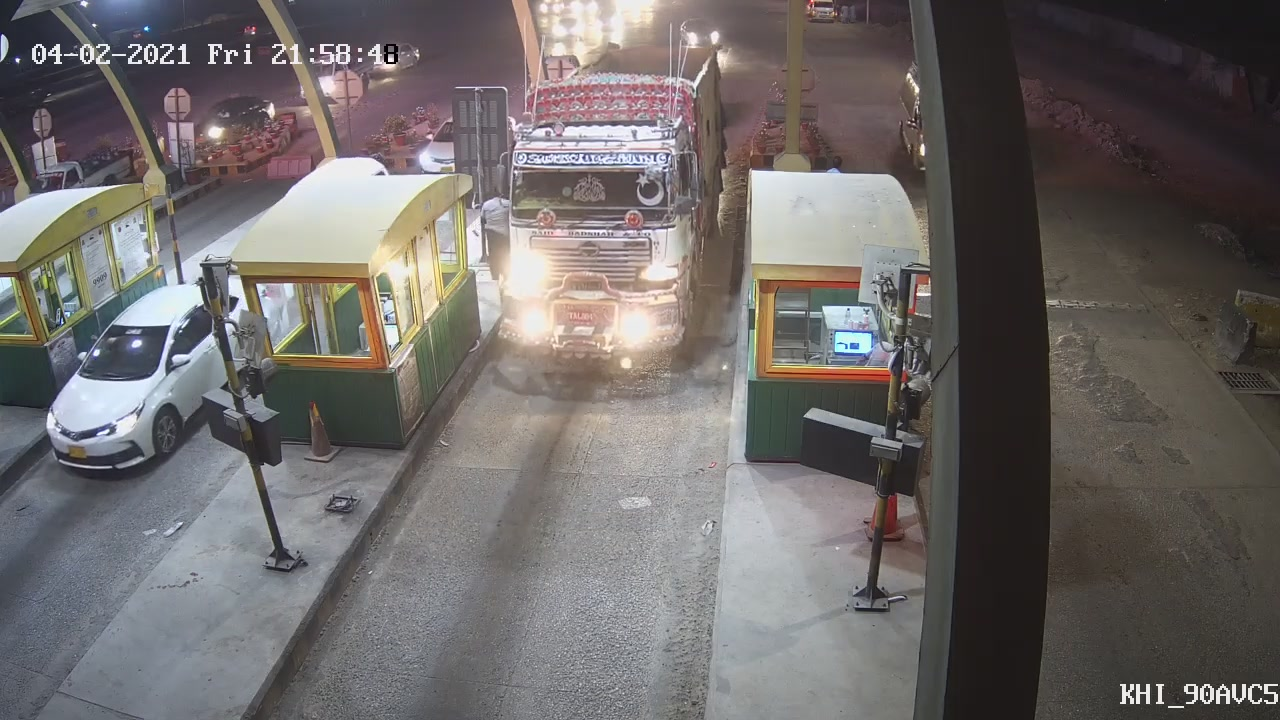F5: (480, 51, 724, 390)
